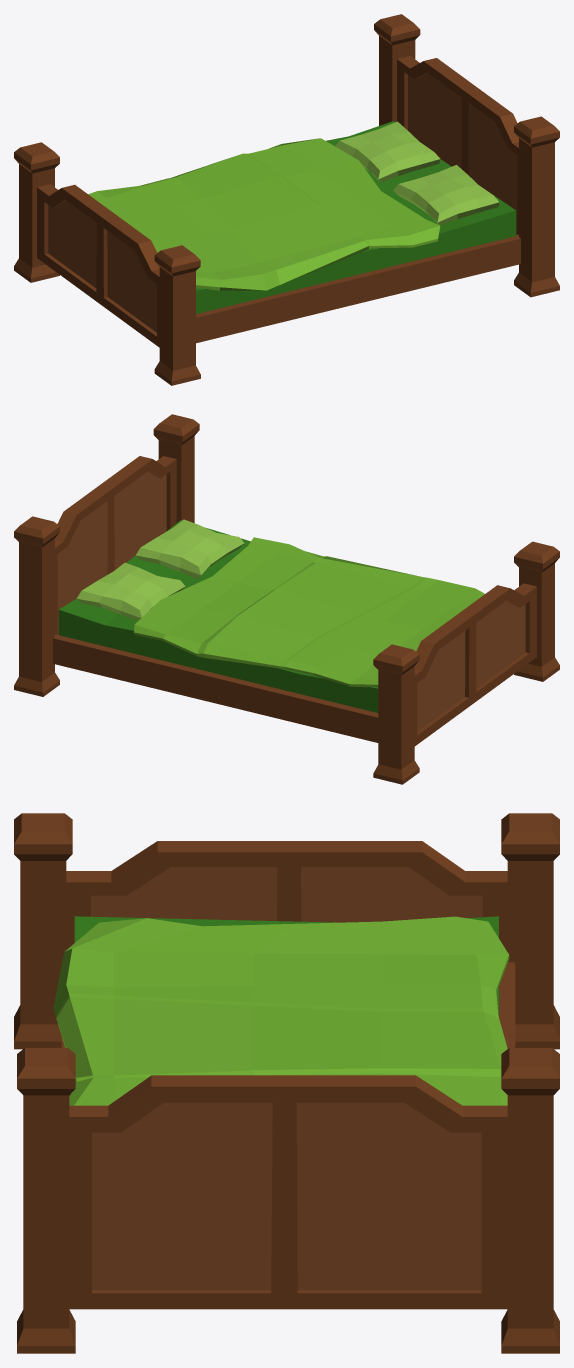
The model's file is Bed.fbx.
3 views of the same model, one above another, from view 1: azimuth 30°, elevation 25°; view 2: azimuth 150°, elevation 25°; view 3: azimuth 270°, elevation 25° (orthographic). The views are drawn at different scales.
Parts seen in each view (by area): view 1: Cube.8152; view 2: Cube.8152; view 3: Cube.8152.
Boxes of the visible parts, x1,y1,x2,y2 form: Cube.8152: [14, 14, 559, 385]; Cube.8152: [14, 414, 559, 784]; Cube.8152: [14, 813, 559, 1353].
Bounding box in the file's own units: 464 × 187 × 325.
Materials: 1 (1 with a texture image).
